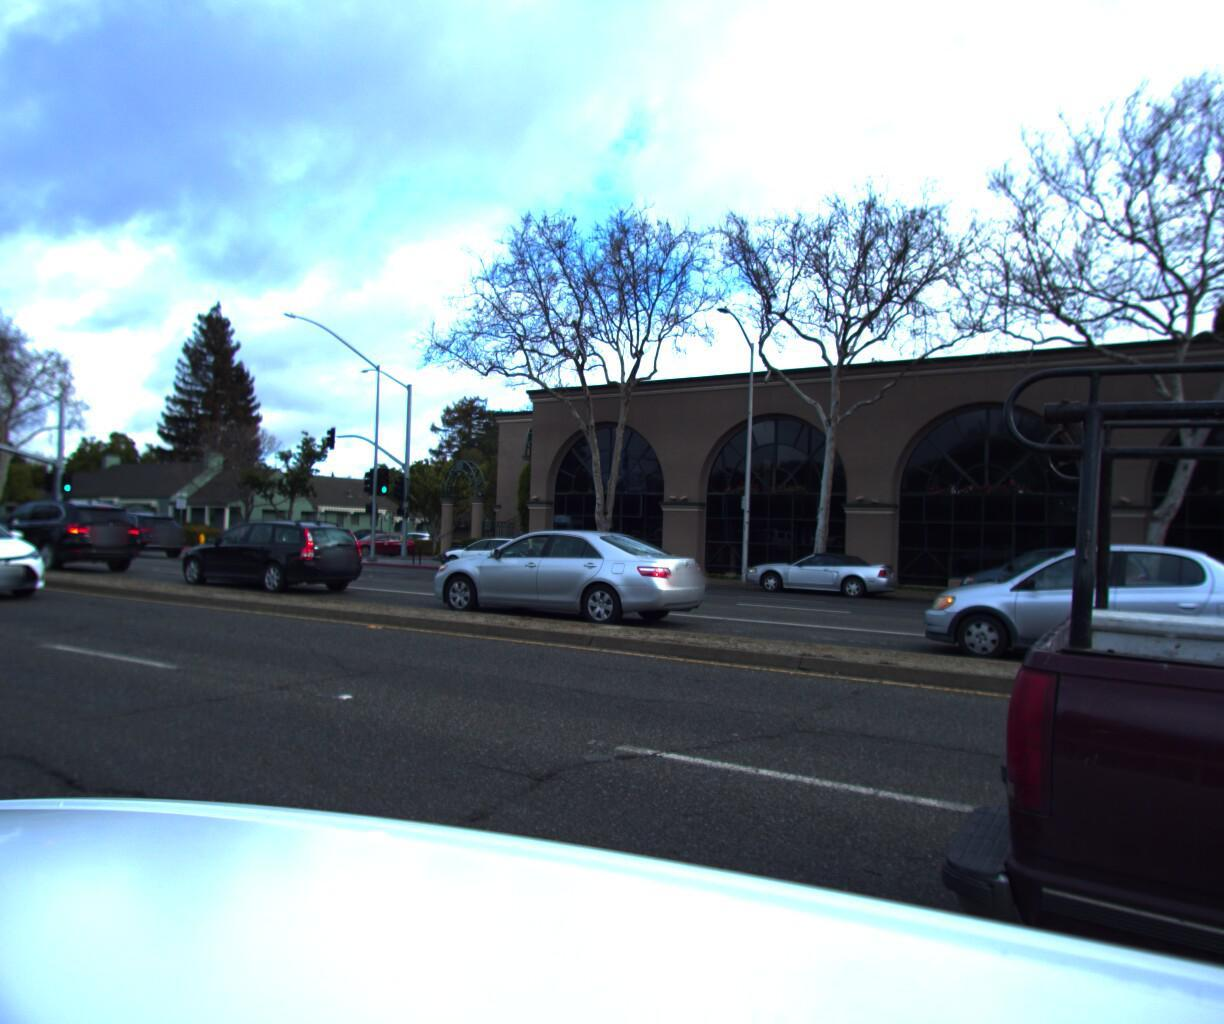car: (909, 536, 1224, 698), (414, 520, 722, 634), (165, 511, 381, 596), (944, 545, 1156, 621), (0, 495, 152, 570), (735, 550, 903, 606), (0, 494, 80, 601), (72, 506, 194, 558), (431, 534, 554, 579), (335, 532, 419, 559)
